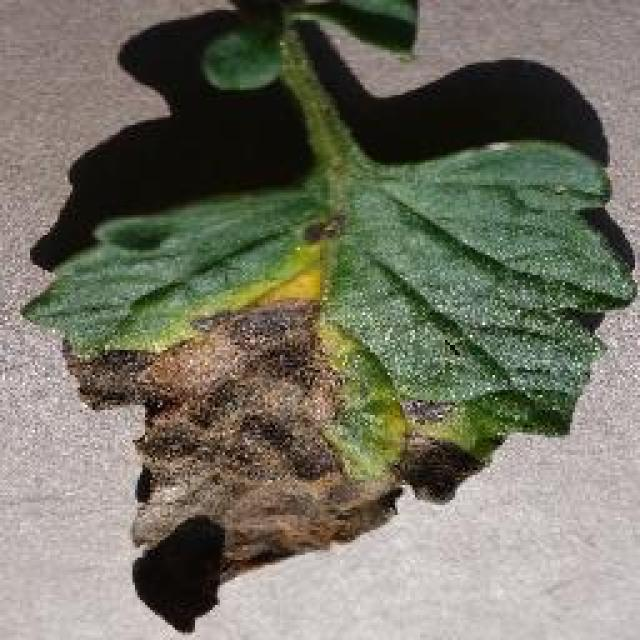Tomato___Early_blight: (16, 0, 638, 638)
